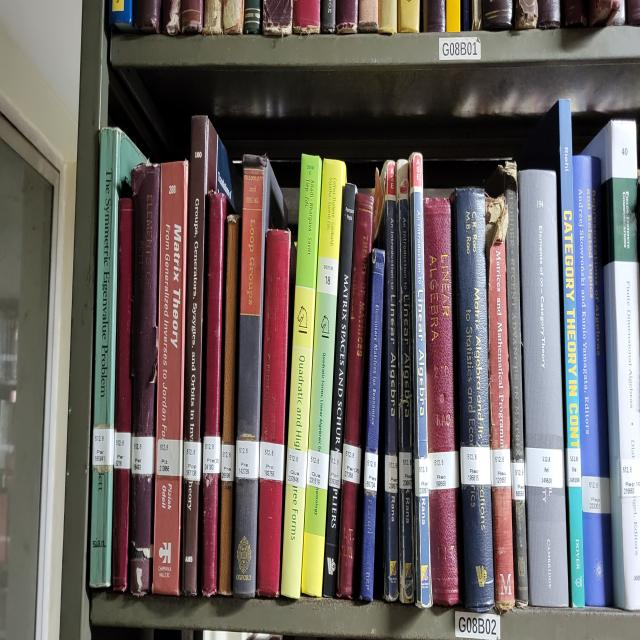Book: (586, 122, 640, 609), (90, 127, 142, 587), (518, 170, 569, 606), (232, 154, 282, 595), (301, 160, 346, 595), (486, 162, 529, 606), (572, 154, 612, 606), (281, 154, 321, 598), (181, 116, 218, 595), (454, 189, 495, 609), (152, 162, 189, 595), (424, 198, 460, 606), (322, 184, 356, 598), (338, 192, 372, 598), (558, 100, 585, 609), (130, 165, 160, 595), (256, 230, 291, 598), (409, 154, 432, 609), (201, 192, 226, 595), (489, 241, 515, 609), (360, 249, 385, 601), (112, 198, 134, 593), (396, 160, 415, 603), (219, 214, 240, 595), (384, 165, 399, 601)
Label: (525, 446, 564, 490), (428, 452, 459, 490), (460, 446, 491, 484), (581, 476, 610, 514), (259, 441, 284, 482), (156, 438, 182, 476), (236, 438, 260, 479), (131, 436, 155, 476), (92, 427, 115, 468), (306, 449, 329, 490), (286, 446, 308, 487), (620, 457, 640, 498), (341, 444, 361, 484), (490, 449, 511, 487), (202, 436, 221, 473), (114, 430, 131, 471), (184, 441, 201, 482), (566, 446, 581, 487), (415, 455, 429, 498), (364, 452, 379, 492), (511, 460, 525, 501), (329, 449, 342, 490), (221, 444, 235, 482), (399, 452, 412, 490), (385, 455, 398, 492)
